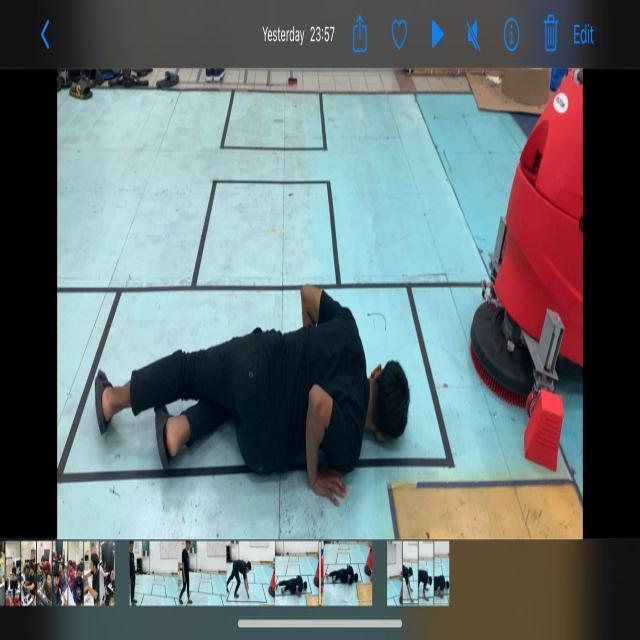fall: (92, 271, 408, 499)
